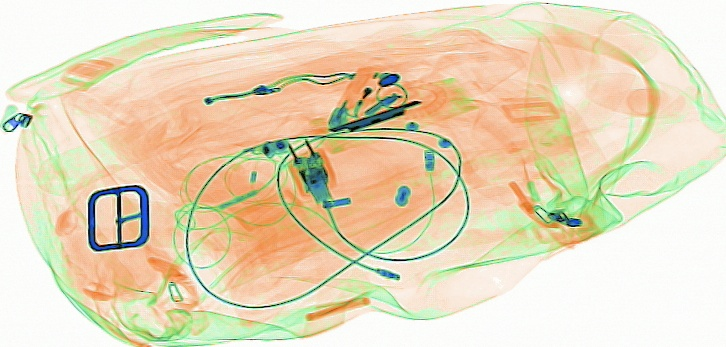lighter: (326, 64, 387, 133)
